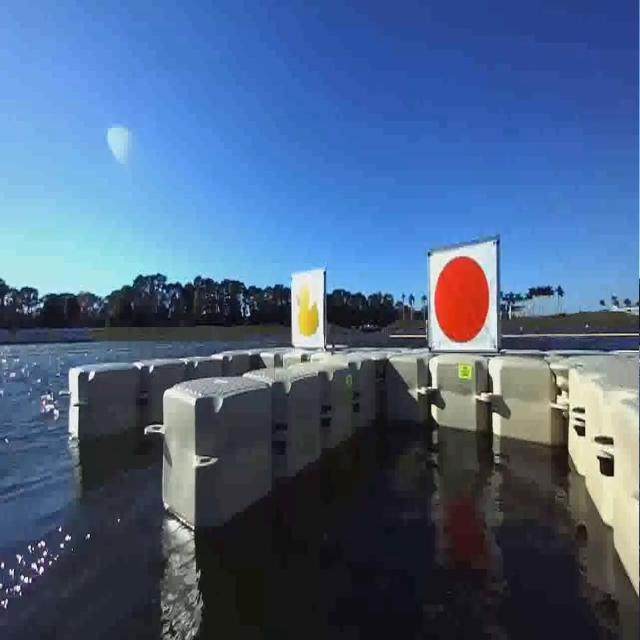red-dot: (422, 239, 492, 348)
yellow-duck: (290, 274, 326, 348)
